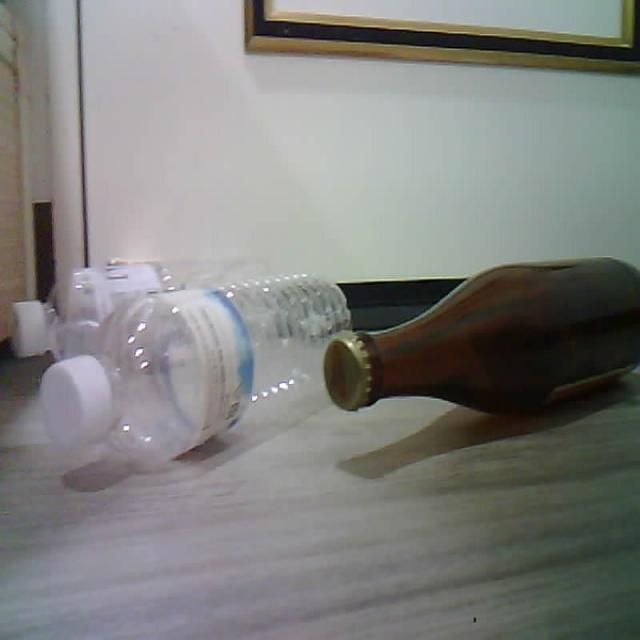bottle: (40, 273, 350, 462), (325, 257, 639, 412), (12, 260, 247, 358)
